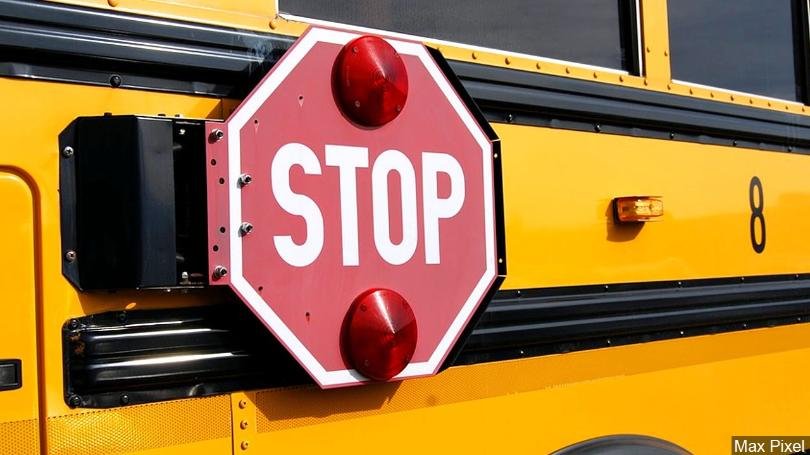stop: (193, 17, 514, 393)
